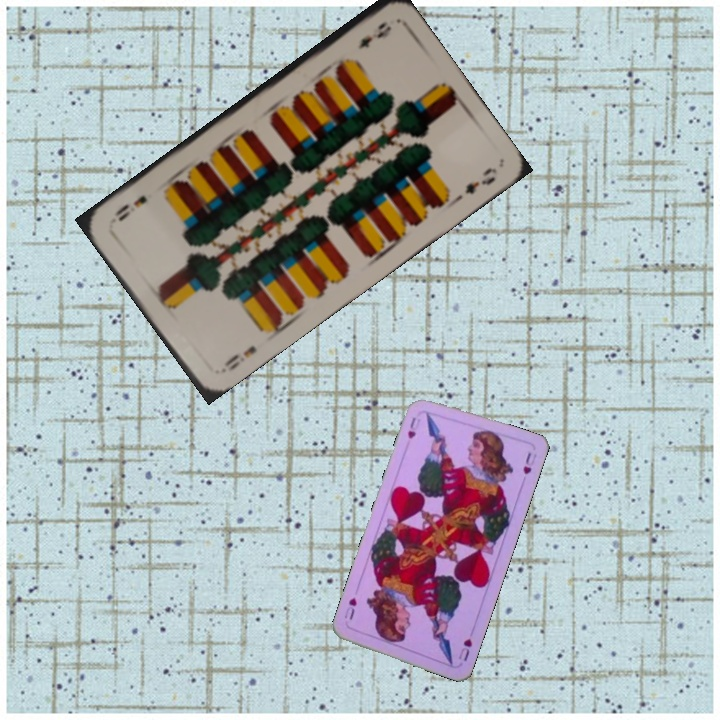E9: (214, 341, 260, 376), (353, 17, 394, 53)
HU: (455, 634, 475, 664), (404, 413, 423, 441)
